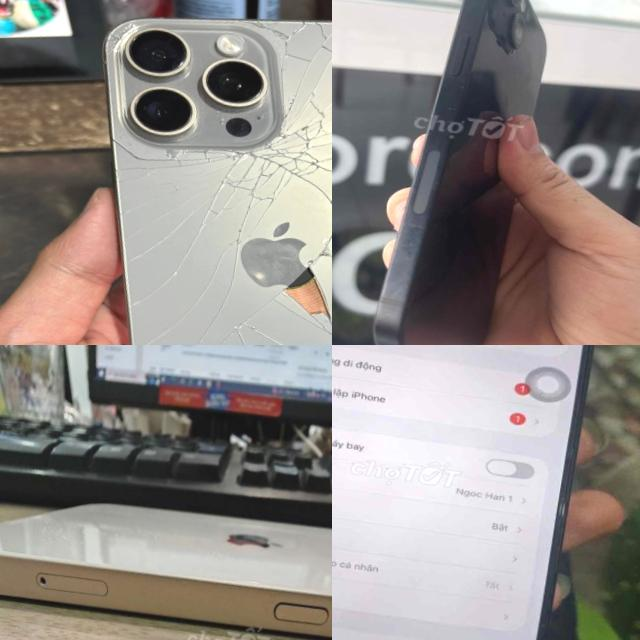gen_12_13: (38, 0, 332, 345), (0, 466, 332, 640)
gen_14: (356, 0, 578, 345)
gen_16: (332, 345, 592, 640)
physical_damage: (112, 138, 332, 212), (150, 217, 252, 321), (259, 237, 332, 345), (273, 79, 332, 181), (265, 16, 332, 93), (103, 18, 152, 59), (149, 327, 233, 345), (236, 321, 292, 345)
scratch: (379, 128, 448, 311), (434, 68, 484, 116)
